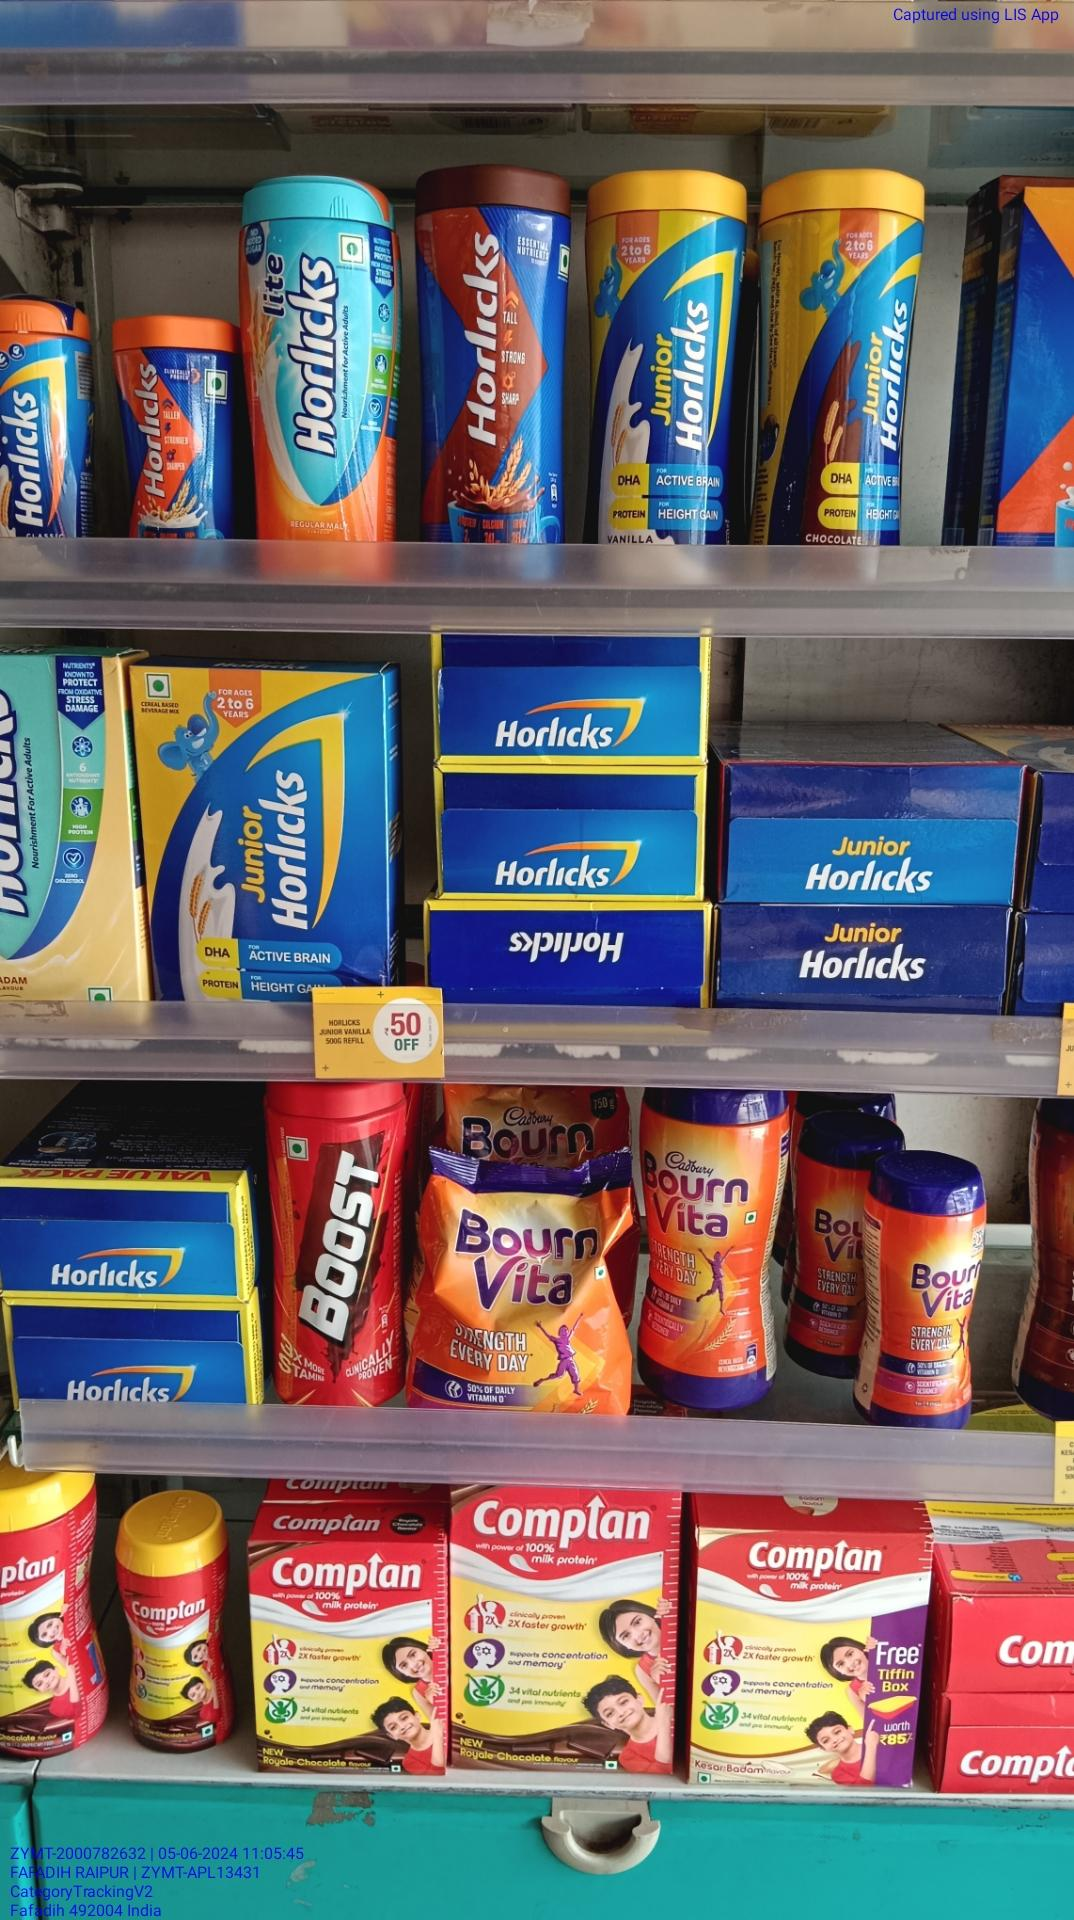COMPLAN_CHOCOLATE_200_GMS_JAR: (125, 1482, 231, 1756)
HORLICKS_LITE_REGULAR_MALT_500_GM_JAR: (249, 174, 393, 587)
